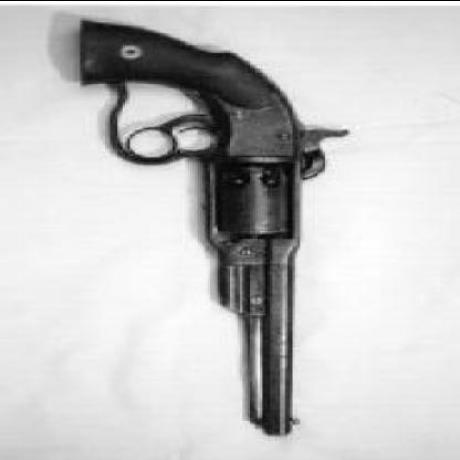weapon: (70, 25, 339, 438)
